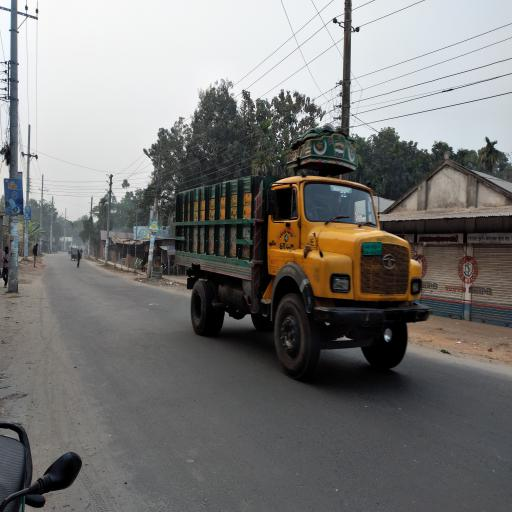auto rickshaw: (72, 246, 80, 263), (69, 245, 73, 257)
motorbike: (161, 261, 184, 278)
truck: (170, 129, 441, 387)
